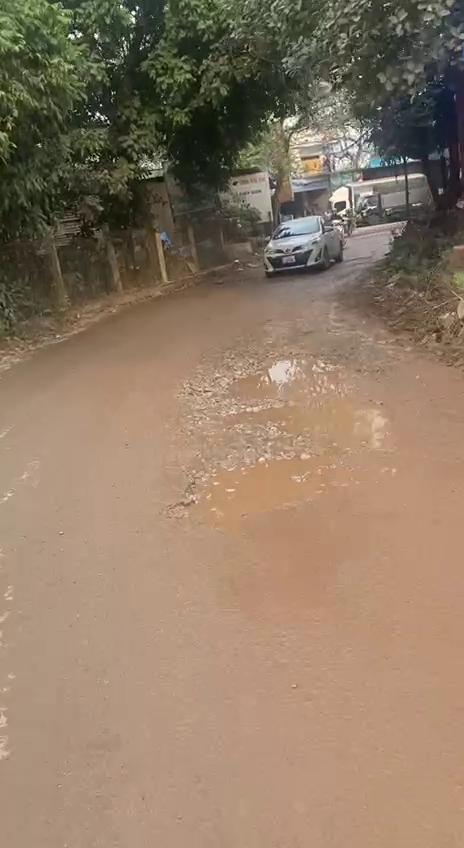pothole: (186, 351, 370, 451), (172, 440, 364, 526)
